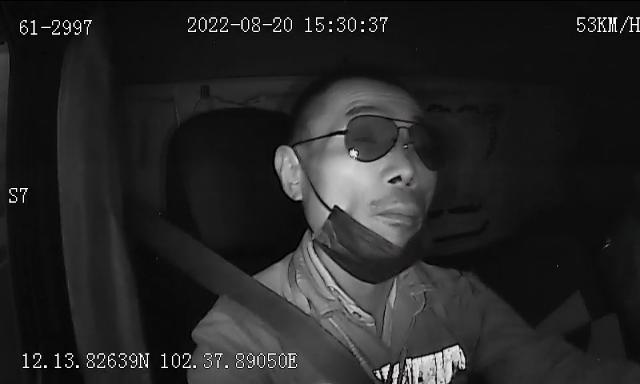Seatbelt: (159, 220, 373, 384)
